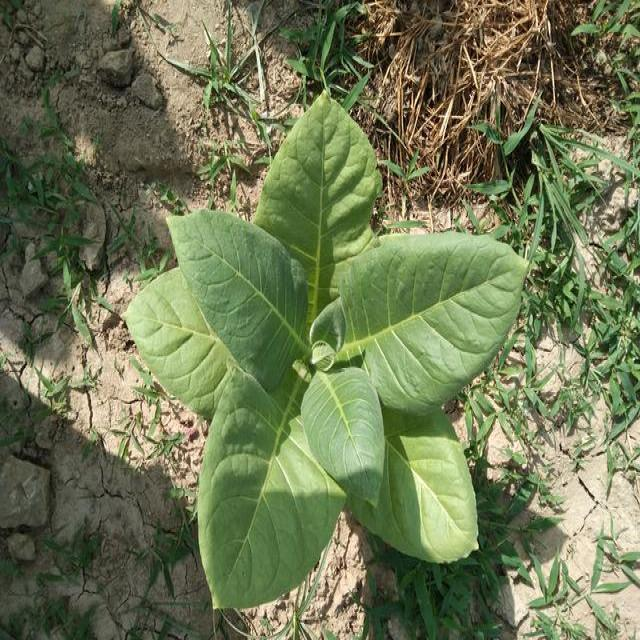crop: (128, 100, 534, 618)
